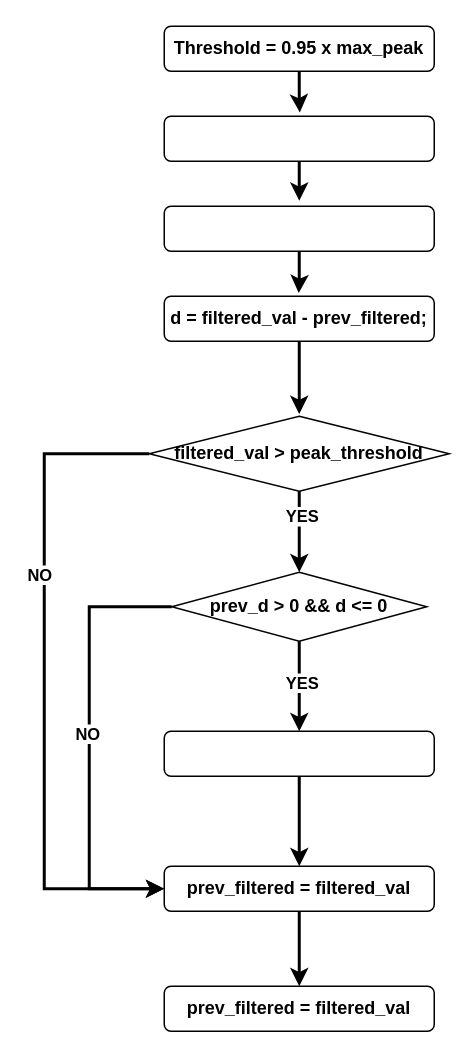
Some shapes in this 476 by 1058 pixel diagram are drawn without their labels. Each missing label, with the centre of its shape:
"PEAK = filtered_val;" goes at (x=298, y=753).
"prev_d = 0" goes at (x=298, y=228).
"prev_filtered = 0" goes at (x=298, y=138).
